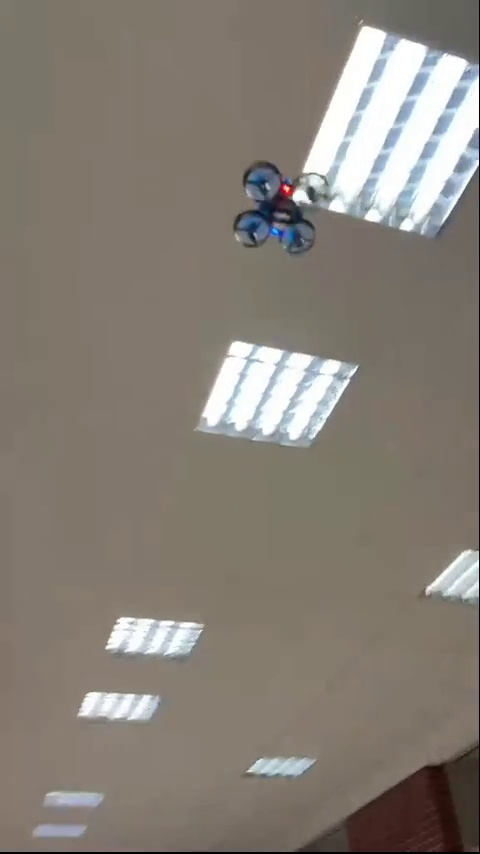drone: (233, 159, 325, 254)
